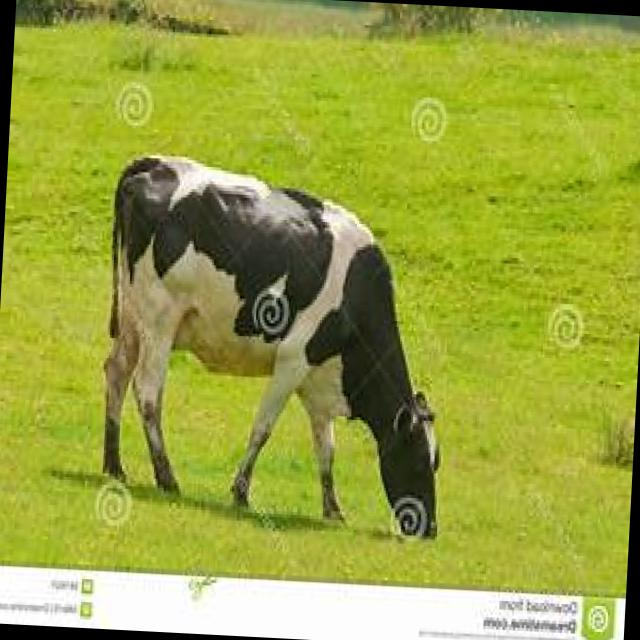animal: (96, 151, 458, 540)
